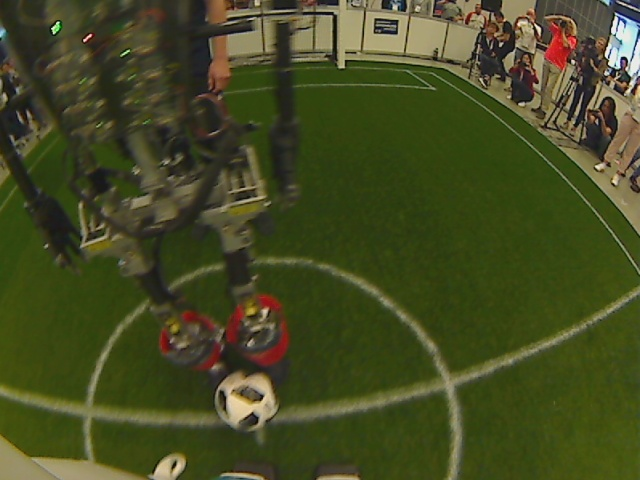ball: (211, 366, 283, 435)
